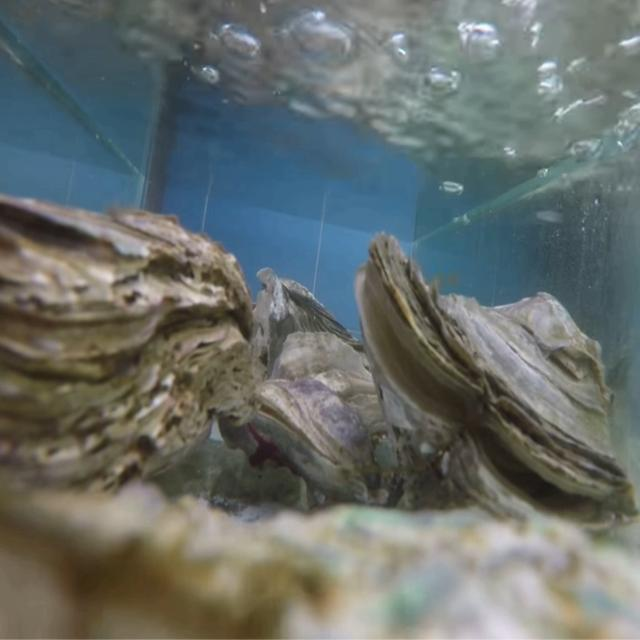Oyster-Closed: (0, 195, 255, 508), (248, 332, 408, 508)
Oyster-Indeterminate: (0, 481, 640, 640)
Oyster-Open: (355, 233, 640, 546)
